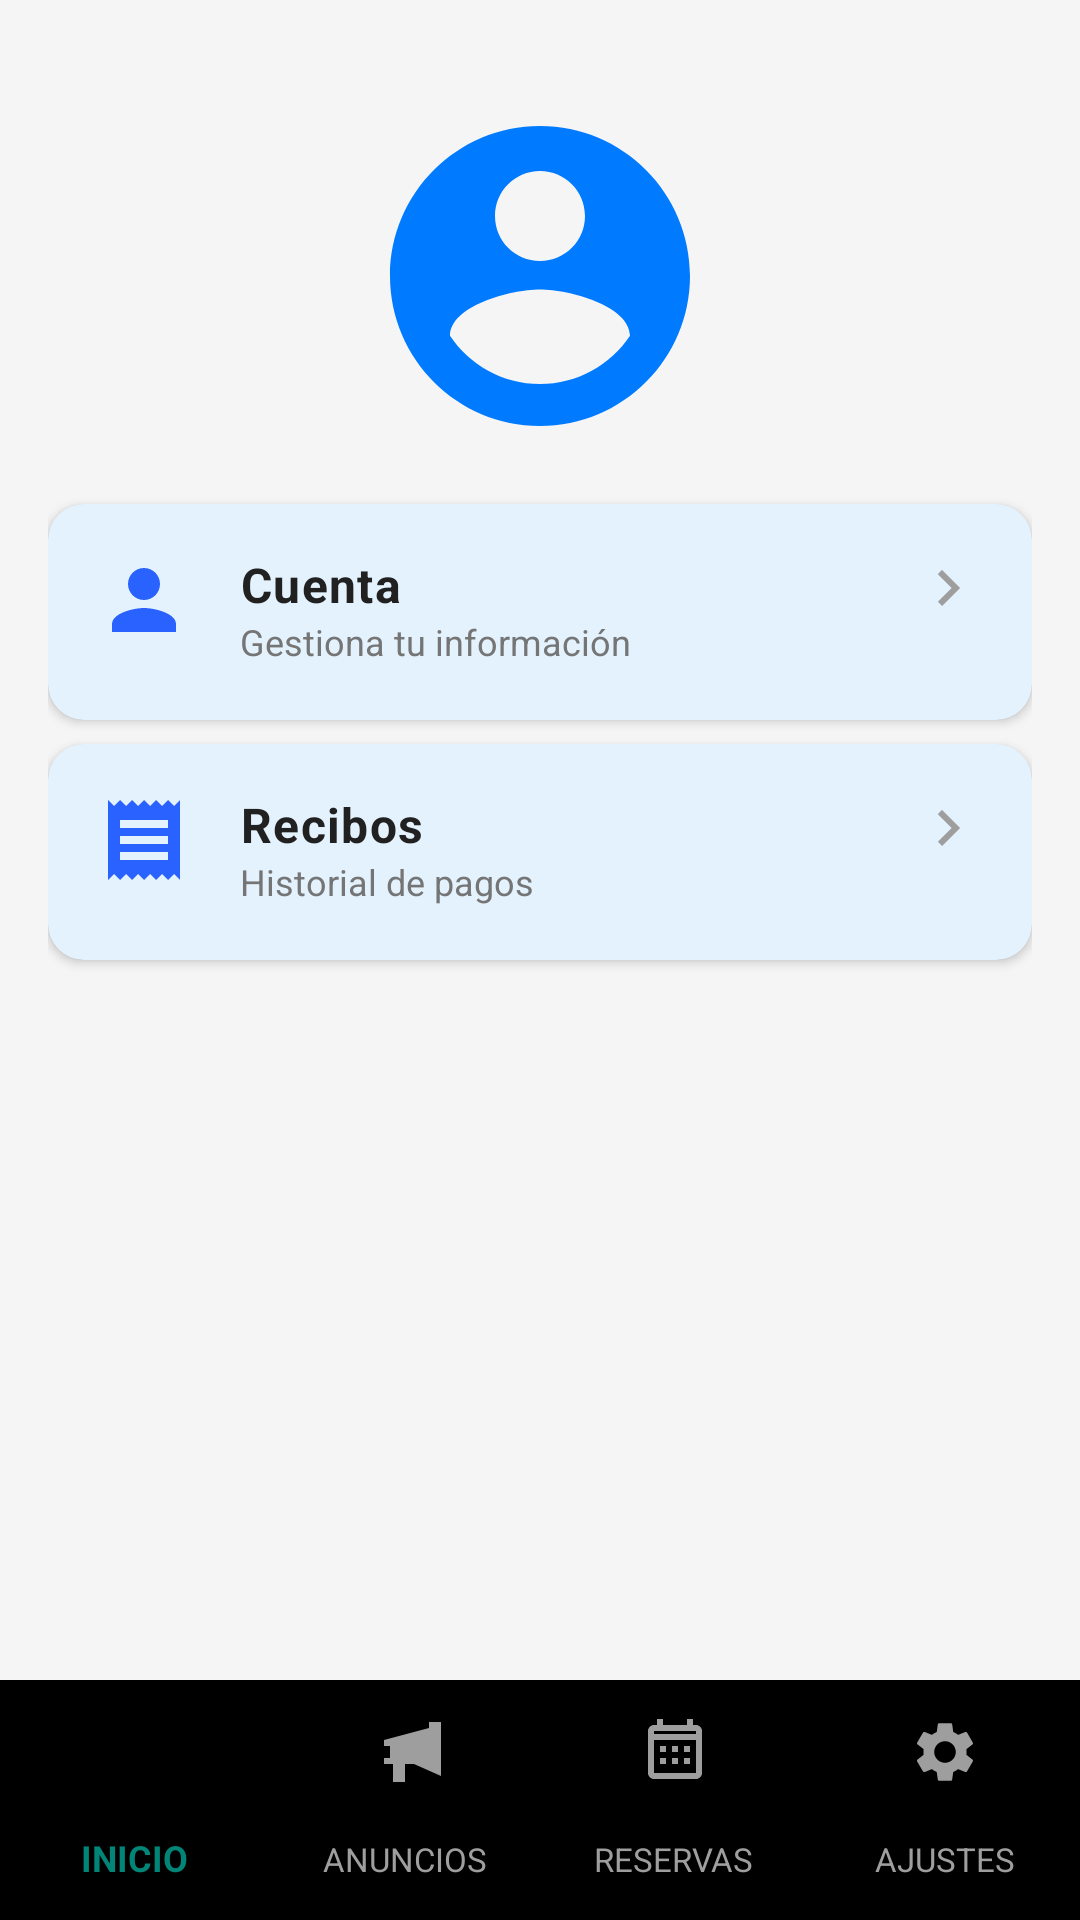

Icon bounding boxes for this 1080px×1920px phone screenshot, format (x1, y1, x2, y2):
arrow right: (938, 570, 960, 606), (938, 810, 960, 846)
person: (112, 568, 176, 632)
receipt: (108, 800, 180, 880)
